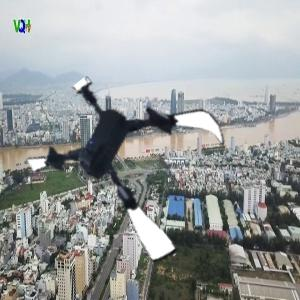drone: (34, 68, 231, 265)
